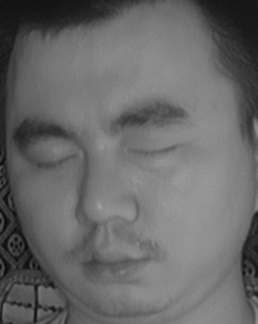blink: (129, 132, 178, 173), (30, 142, 79, 182)
mouth: (78, 234, 156, 287)
